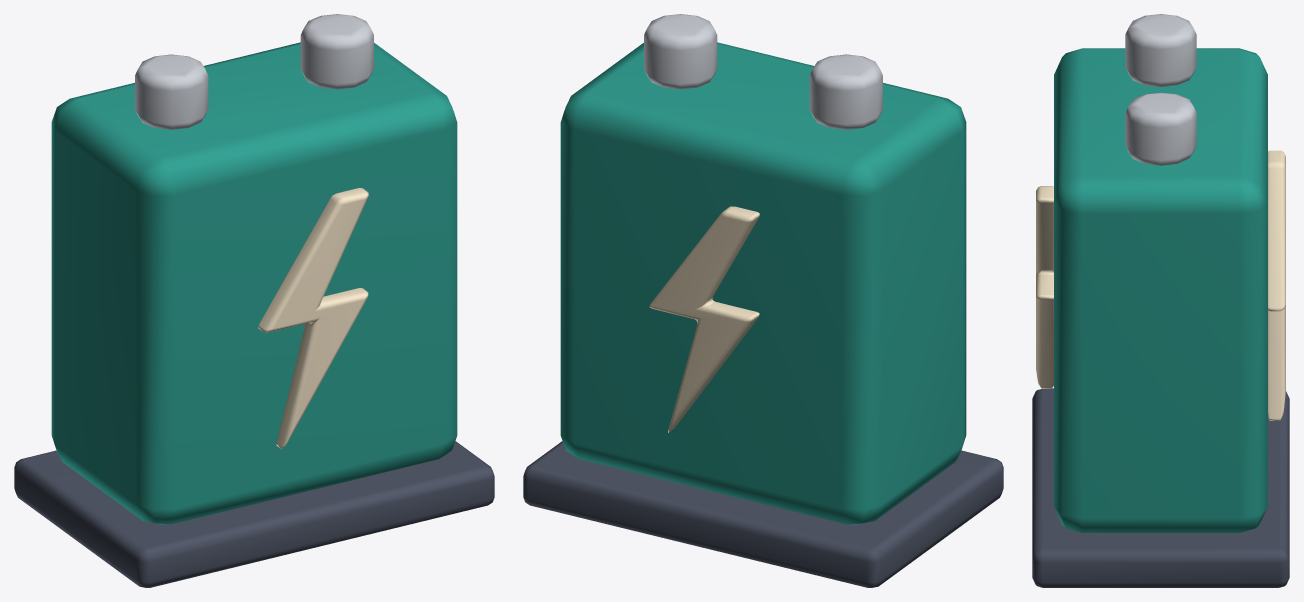
File: Part_Battery.fbx
3 renders of one model, left to right at view 1: azimuth 30°, elevation 25°; view 2: azimuth 150°, elevation 25°; view 3: azimuth 270°, elevation 25°, orthographic. The views are drawn at different scales.
Visible parts, largest first — view 1: Part_Battery.Body, Part_Battery.Plinth, Part_Battery.Bolt, Part_Battery.Terminals; view 2: Part_Battery.Body, Part_Battery.Plinth, Part_Battery.Terminals, Part_Battery.Bolt; view 3: Part_Battery.Body, Part_Battery.Plinth, Part_Battery.Terminals, Part_Battery.Bolt.
Part boxes in pixels (x1,y1,x2,y2): Part_Battery.Body: (51,42,457,524); Part_Battery.Plinth: (14,441,494,587); Part_Battery.Bolt: (258,188,368,449); Part_Battery.Terminals: (135,14,373,129); Part_Battery.Body: (560,42,966,524); Part_Battery.Plinth: (523,441,1003,587); Part_Battery.Terminals: (644,14,882,129); Part_Battery.Bolt: (649,206,759,432); Part_Battery.Body: (1054,48,1267,532); Part_Battery.Plinth: (1032,388,1289,587); Part_Battery.Terminals: (1125,14,1196,165); Part_Battery.Bolt: (1036,150,1285,420).
Size of the model in its own units: 0.56 by 0.685 by 0.36.
Materials: 1 (1 with a texture image).
